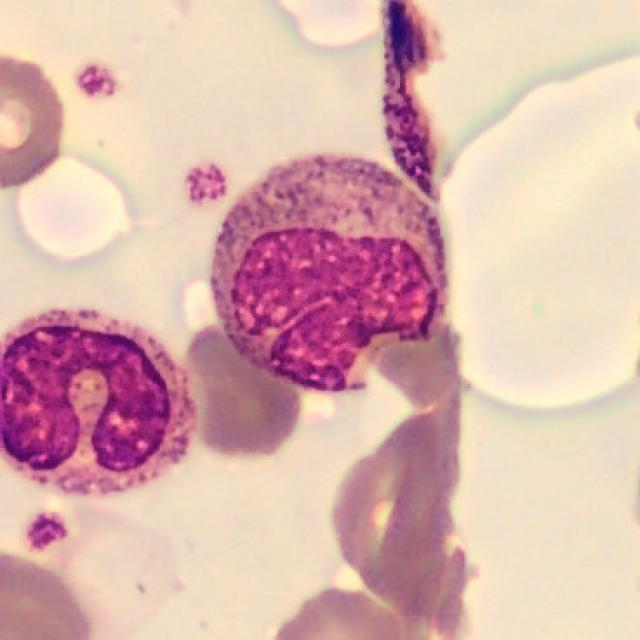Bastonete: (0, 308, 198, 498)
Neutrofilo segmentado: (205, 150, 445, 393)
